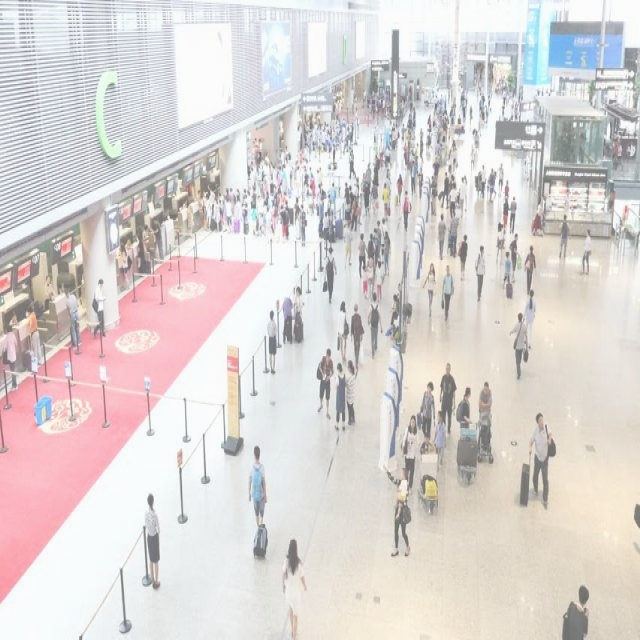pessoa: (196, 160, 394, 233), (248, 117, 460, 160), (330, 80, 474, 119), (382, 461, 414, 560), (527, 411, 557, 508), (282, 536, 306, 639), (428, 160, 467, 223), (473, 76, 521, 123), (142, 490, 162, 590), (248, 444, 268, 531), (560, 582, 590, 638), (400, 413, 420, 496), (508, 310, 530, 382), (314, 346, 334, 422), (454, 384, 474, 452), (438, 362, 456, 434), (1, 321, 19, 391), (480, 162, 511, 202), (418, 380, 436, 448), (348, 302, 366, 369), (25, 303, 43, 367), (332, 360, 348, 432), (63, 285, 81, 347), (334, 298, 350, 362), (367, 292, 382, 360), (431, 410, 448, 470), (91, 276, 107, 338), (322, 245, 338, 303), (343, 358, 357, 424), (522, 286, 536, 350), (507, 230, 523, 286), (422, 261, 437, 319), (602, 134, 626, 170), (440, 264, 454, 322), (266, 308, 278, 375), (466, 124, 482, 171), (280, 294, 294, 346), (474, 244, 486, 304), (118, 240, 132, 290), (522, 242, 536, 290), (150, 216, 165, 260), (389, 282, 402, 332), (448, 209, 460, 260), (558, 212, 571, 259), (456, 234, 468, 284), (356, 232, 368, 279), (580, 227, 592, 274), (42, 273, 56, 311), (400, 188, 412, 232), (436, 212, 447, 260), (142, 222, 155, 262), (366, 256, 378, 299), (478, 378, 492, 414), (532, 202, 546, 238), (343, 220, 353, 270), (508, 194, 520, 233), (382, 230, 391, 278), (533, 80, 556, 98), (496, 223, 506, 264), (184, 198, 194, 238), (374, 260, 384, 299), (408, 157, 418, 196), (382, 181, 391, 223), (419, 432, 435, 455), (368, 180, 379, 213), (502, 252, 512, 288), (362, 180, 371, 218), (294, 285, 304, 319), (371, 228, 381, 262), (502, 194, 510, 233), (379, 217, 387, 255), (416, 165, 424, 199), (362, 262, 369, 300), (376, 218, 382, 262), (366, 234, 376, 258), (394, 174, 402, 204), (563, 188, 571, 213), (8, 310, 19, 326), (124, 236, 132, 250)
